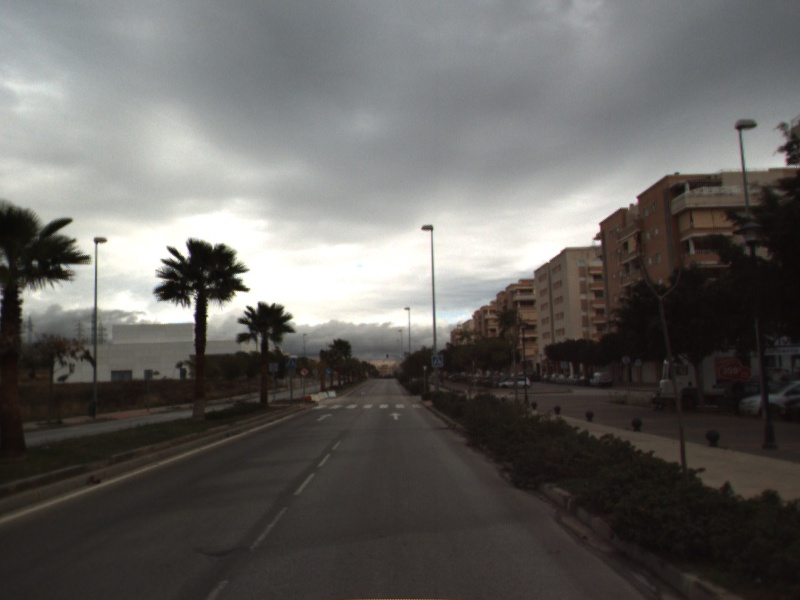STRAIGHT: (314, 411, 334, 423), (387, 410, 404, 422)
